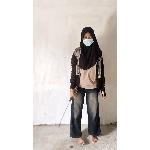Golok: (58, 78, 82, 132)
